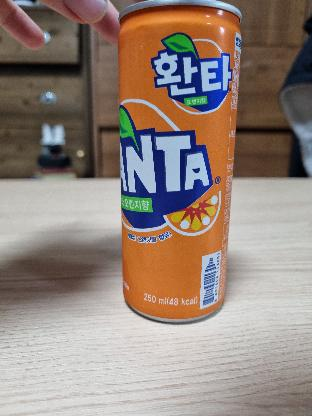Can: (122, 13, 230, 325)
